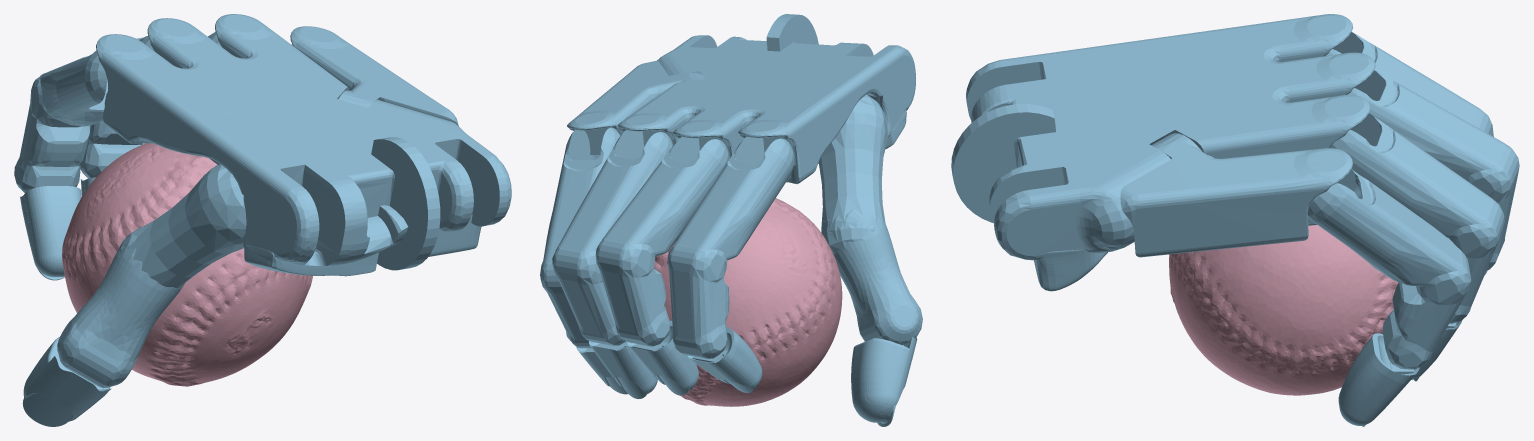
3 renders of one model, left to right at view 1: azimuth 30°, elevation 25°; view 2: azimuth 150°, elevation 25°; view 3: azimuth 270°, elevation 25°, orthographic. The views are drawn at different scales.
Parts seen in each view (by area): view 1: world; view 2: world; view 3: world.
Part boxes in pixels (box(x1,y1,x2,y2)): world: box(14, 14, 511, 426); world: box(540, 14, 922, 426); world: box(951, 14, 1519, 426).
Bounding box in the file's own units: 0.1231 × 0.11 × 0.1644.
